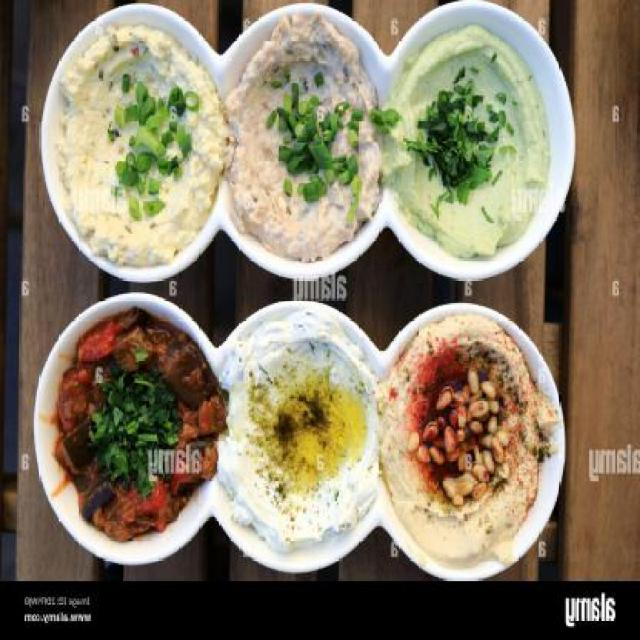eggplant: (45, 298, 214, 564)
hummus: (390, 311, 541, 572)
